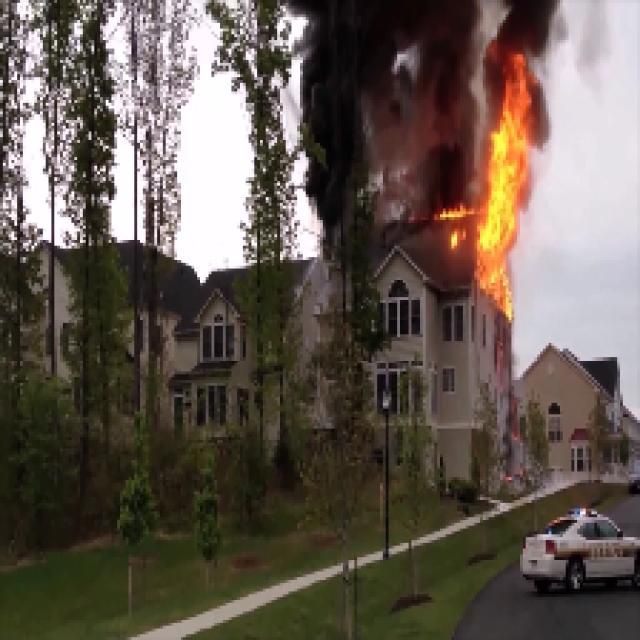fire: (484, 69, 524, 301)
smoke: (325, 4, 471, 210)
